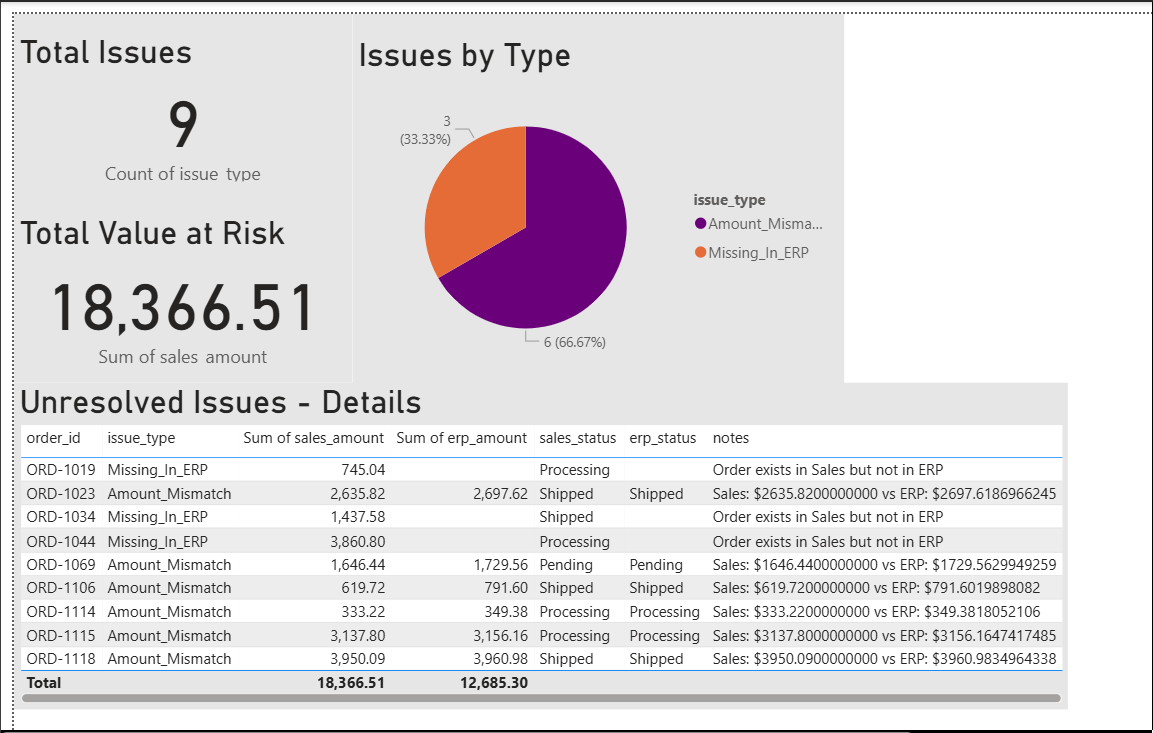

The page's visual inventory and layout, read from the dashboard file:
{"tool":"powerbi","page":{"name":"Page 1","canvas":[1280,720],"ordinal":0},"visuals":[{"type":"card","title":"Total Issues ","fields":{"Values":["CountNonNull(Query1.issue_type)"]},"box":[0,0,300.6,164.4],"z":0},{"type":"pieChart","title":"Issues by Type","fields":{"Category":["Query1.issue_type"],"Y":["CountNonNull(Query1.issue_type)"]},"box":[300.6,0,436.8,327.6],"z":1},{"type":"tableEx","title":"Unresolved Issues - Details","fields":{"Values":["Query1.order_id","Query1.issue_type","Sum(Query1.sales_amount)","Sum(Query1.erp_amount)","Query1.sales_status","Query1.erp_status","Query1.notes"]},"box":[0,327.8,936.7,290],"z":2},{"type":"card","title":"Total Value at Risk","fields":{"Values":["Sum(Query1.sales_amount)"]},"box":[0,164.4,300.6,163.2],"z":3}]}

Visuals, with their boxes on the page's 1280x720 design canvas (x1, y1, x2, y2). These are canvas units, not pixel positions in the 1153x733 screenshot, which may show the page scaled, cropped or inside an application window:
"Total Issues " card: crop(0, 0, 301, 164)
"Issues by Type" pieChart: crop(301, 0, 737, 328)
"Unresolved Issues - Details" tableEx: crop(0, 328, 937, 618)
"Total Value at Risk" card: crop(0, 164, 301, 328)
